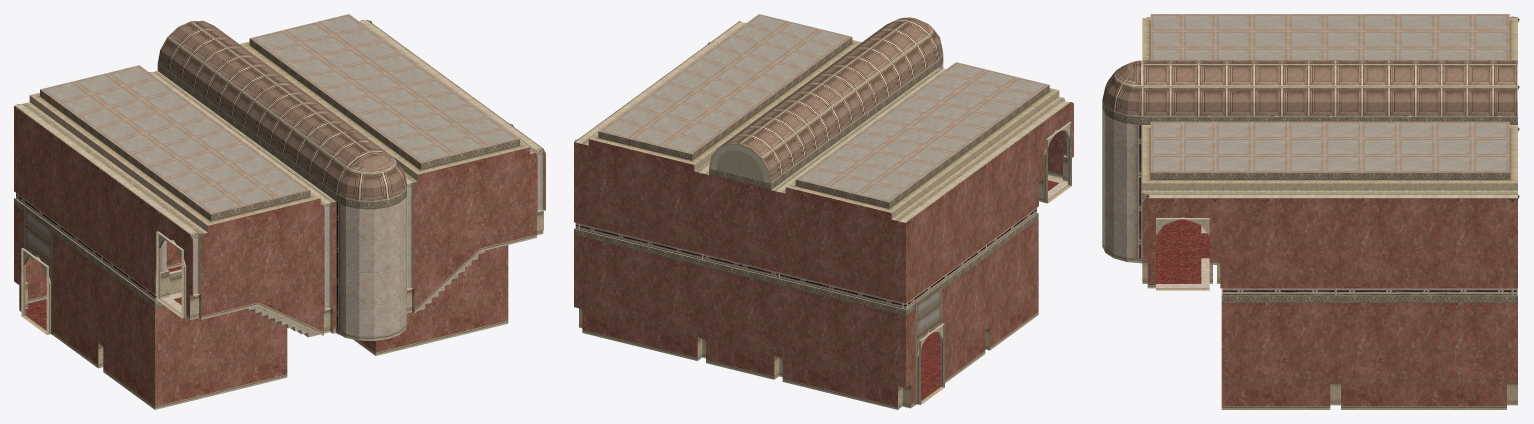
The model's file is ply_nboo_house_lg_s01_fp1_r14_room6_mesh_r14.fbx.
3 renders of one model, left to right at view 1: azimuth 30°, elevation 25°; view 2: azimuth 150°, elevation 25°; view 3: azimuth 270°, elevation 25°, orthographic. The views are drawn at different scales.
Parts seen in each view (by area): view 1: mesh_node; view 2: mesh_node; view 3: mesh_node.
Boxes of the visible parts, bbox=[...] form: mesh_node: bbox=[14, 14, 545, 409]; mesh_node: bbox=[574, 14, 1073, 409]; mesh_node: bbox=[1102, 14, 1519, 409].
Size of the model in its own units: 16.4 by 10.5 by 15.57.
